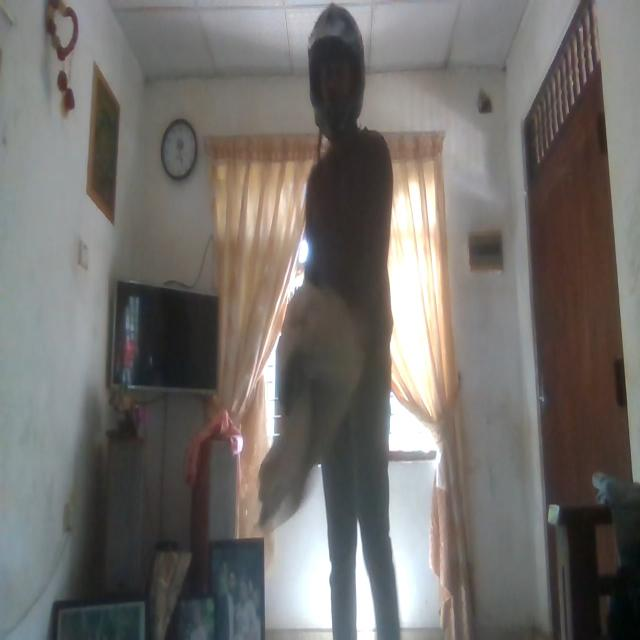Helmet_Wearer: (300, 9, 368, 150)
Person: (290, 3, 410, 640)
